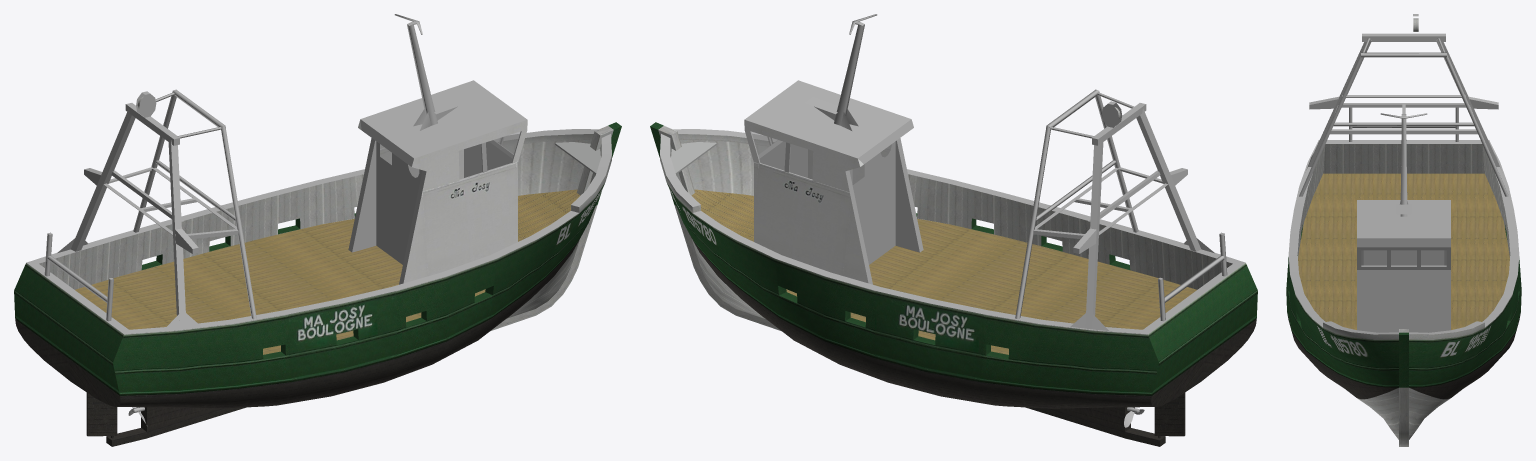
The picture shows the model from 3 angles, left to right: view 1: azimuth 30°, elevation 25°; view 2: azimuth 150°, elevation 25°; view 3: azimuth 270°, elevation 25°; orthographic projection. The views are drawn at different scales.
Parts seen in each view (by area): view 1: coque (×6), cabine (×3), pont, portique, lisse, quille (×2), portiqueCylindre, mat, safran, rampe, coin; view 2: coque (×6), cabine (×3), pont, portique, lisse, quille (×2), portiqueCylindre, mat, safran, rampe, coin; view 3: coque (×5), pont, cabine (×2), portique, lisse, portiqueCylindre, quille (×2), mat, potence, rampe.
Boxes of the visible parts, x1=… form: coque (×6): x1=14, y1=134, x2=611, y2=408; cabine (×3): x1=348, y1=80, x2=527, y2=284; pont: x1=75, y1=189, x2=580, y2=354; portique: x1=57, y1=103, x2=238, y2=330; lisse: x1=27, y1=129, x2=611, y2=334; quille (×2): x1=106, y1=125, x2=613, y2=446; portiqueCylindre: x1=133, y1=89, x2=256, y2=319; mat: x1=407, y1=24, x2=466, y2=130; safran: x1=86, y1=392, x2=117, y2=436; rampe: x1=44, y1=232, x2=113, y2=321; coin: x1=555, y1=142, x2=600, y2=174; coque (×6): x1=660, y1=134, x2=1257, y2=408; cabine (×3): x1=744, y1=80, x2=923, y2=284; pont: x1=691, y1=189, x2=1196, y2=354; portique: x1=1033, y1=103, x2=1214, y2=330; lisse: x1=660, y1=129, x2=1244, y2=334; quille (×2): x1=658, y1=125, x2=1165, y2=446; portiqueCylindre: x1=1015, y1=89, x2=1138, y2=319; mat: x1=805, y1=24, x2=864, y2=130; safran: x1=1154, y1=392, x2=1185, y2=436; rampe: x1=1158, y1=232, x2=1227, y2=321; coin: x1=671, y1=142, x2=716, y2=174; coque (×5): x1=1287, y1=140, x2=1520, y2=439; pont: x1=1298, y1=173, x2=1509, y2=329; cabine (×2): x1=1357, y1=200, x2=1450, y2=332; portique: x1=1306, y1=33, x2=1501, y2=169; lisse: x1=1288, y1=140, x2=1519, y2=334; portiqueCylindre: x1=1299, y1=38, x2=1508, y2=196; quille (×2): x1=1399, y1=329, x2=1408, y2=446; mat: x1=1396, y1=118, x2=1411, y2=216; potence: x1=1309, y1=96, x2=1498, y2=109; rampe: x1=1349, y1=107, x2=1458, y2=141.
Bounding box in the file's own units: 11.05 × 6.61 × 4.66.
9 materials, 7 textured.
